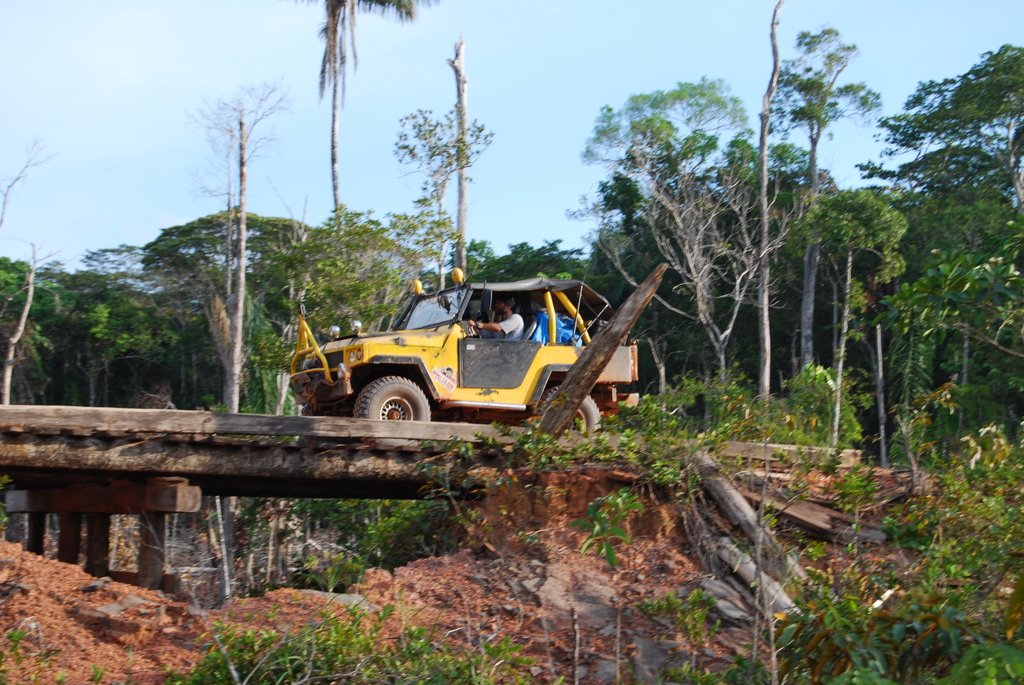Tree: (0, 56, 1023, 415)
